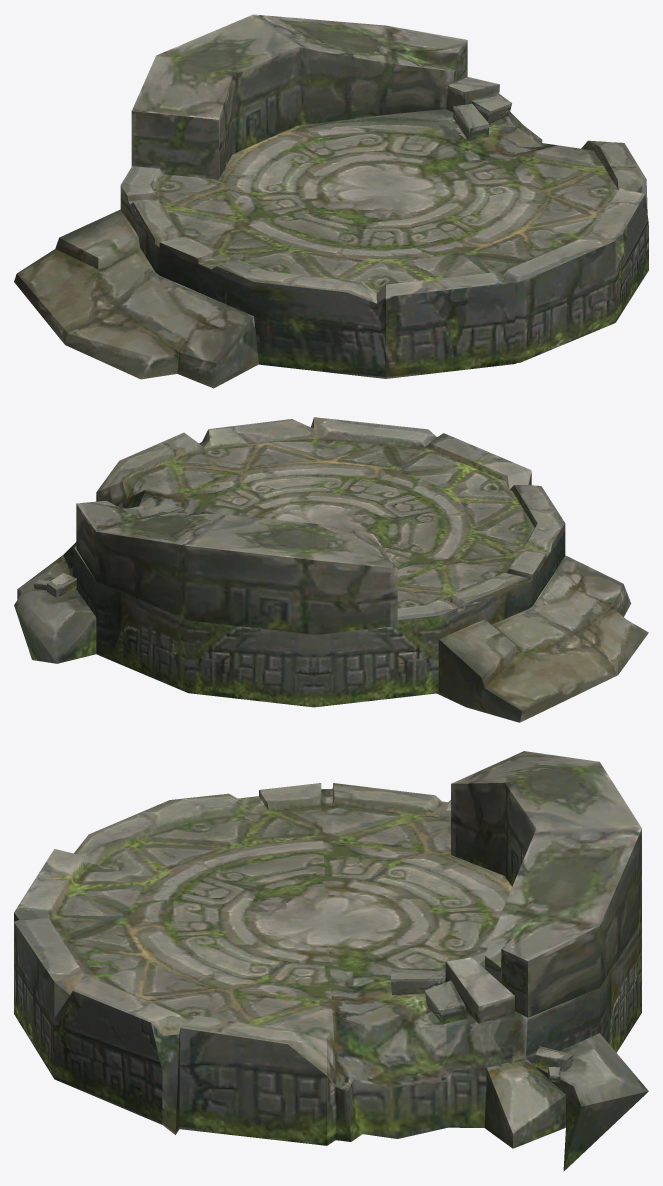
Rendered from wlf_shitai01_w.FBX.
The picture shows the model from 3 angles, top to bottom: view 1: azimuth 30°, elevation 25°; view 2: azimuth 150°, elevation 25°; view 3: azimuth 270°, elevation 25°; orthographic projection. The views are drawn at different scales.
Parts seen in each view (by area): view 1: wlf_shitai01_w; view 2: wlf_shitai01_w; view 3: wlf_shitai01_w.
Part boxes in pixels (x1,y1,x2,y2): wlf_shitai01_w: (14, 14, 648, 388); wlf_shitai01_w: (14, 417, 648, 722); wlf_shitai01_w: (14, 751, 648, 1171).
Size of the model in its own units: 94.66 by 31.39 by 78.91.
